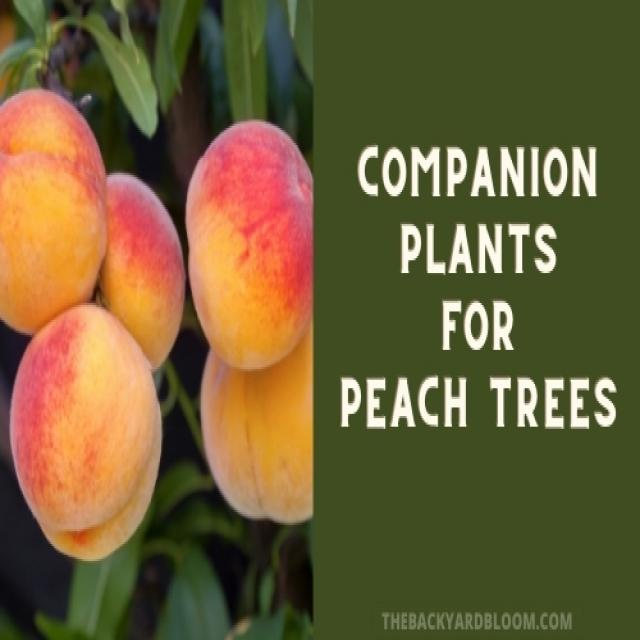Peach: (0, 0, 313, 640)
